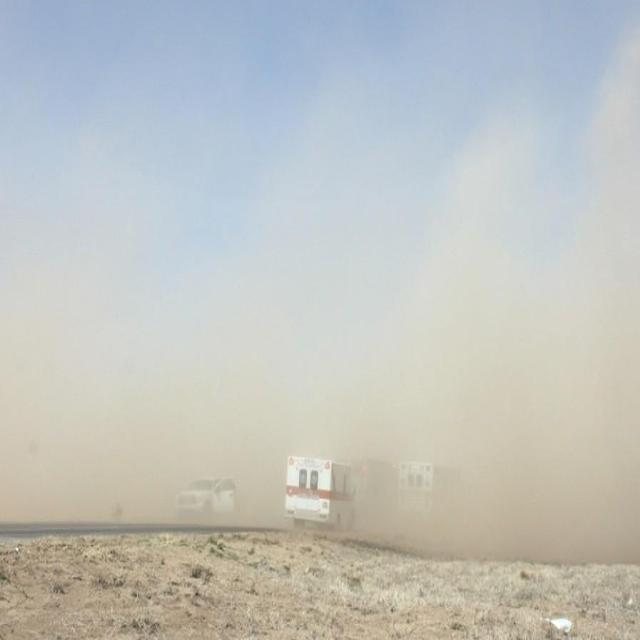Car: (167, 467, 248, 528)
Truck: (280, 432, 358, 544), (392, 434, 451, 530)
